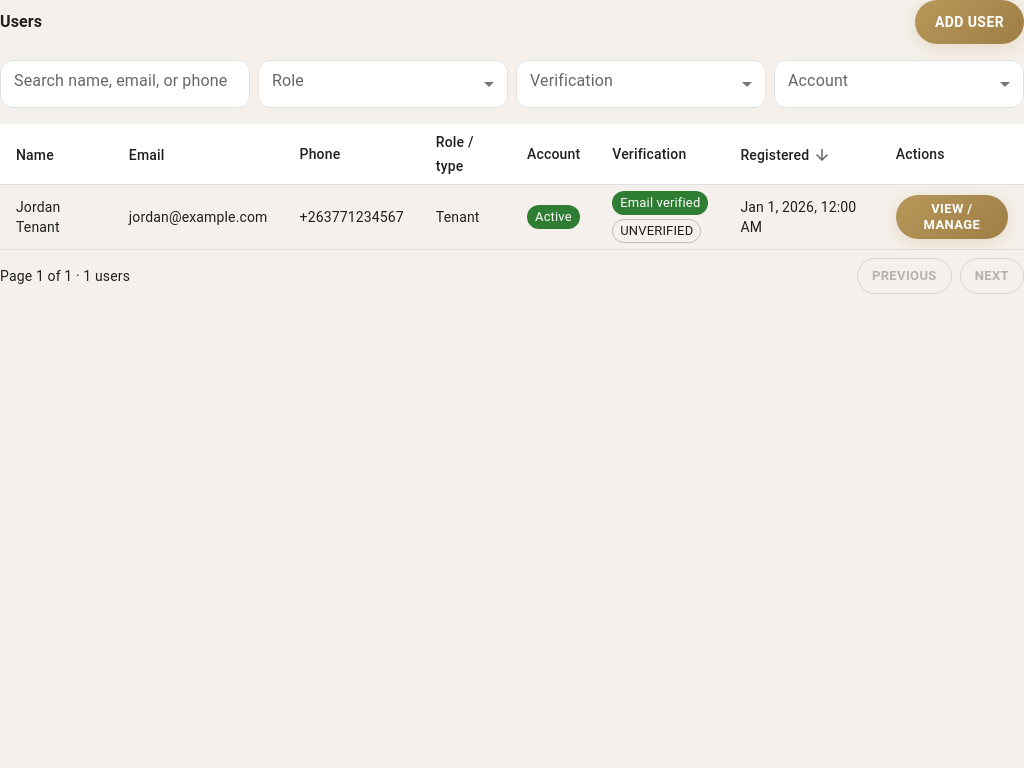
Test: AdminUsers › creates an admin user and opens the new user
Click the button "Add User": click(970, 22) 915,0 -> 1023,44
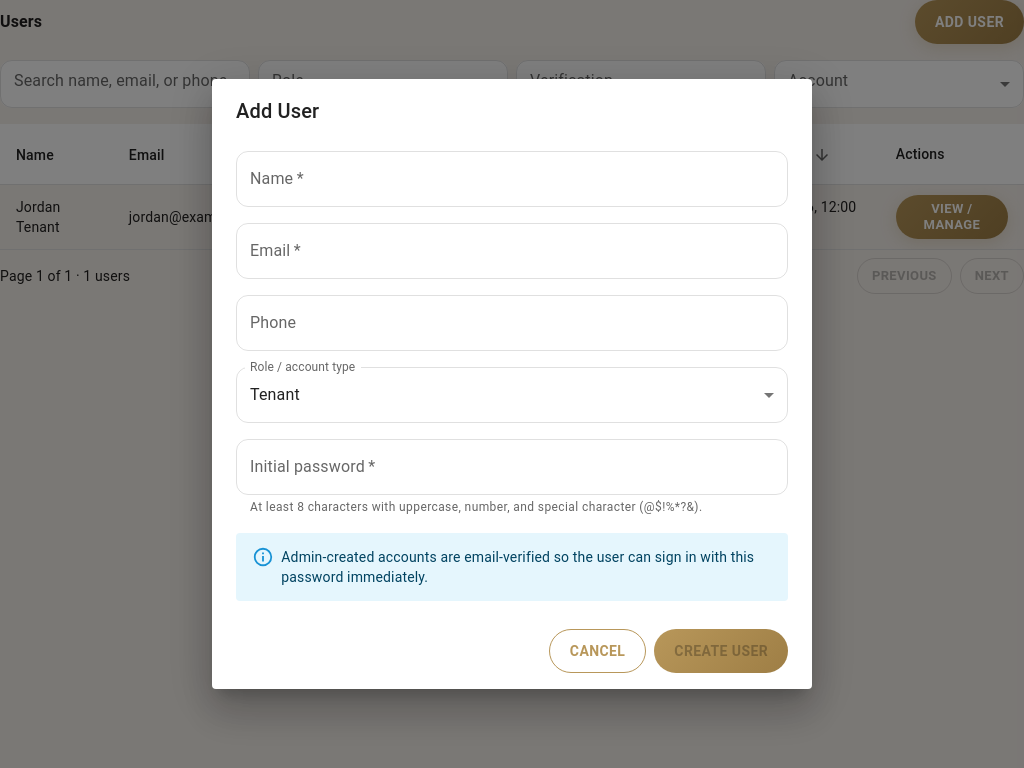
In the field labelled "Name *": (512, 178) 236,150 -> 788,206, type "New Tenant"
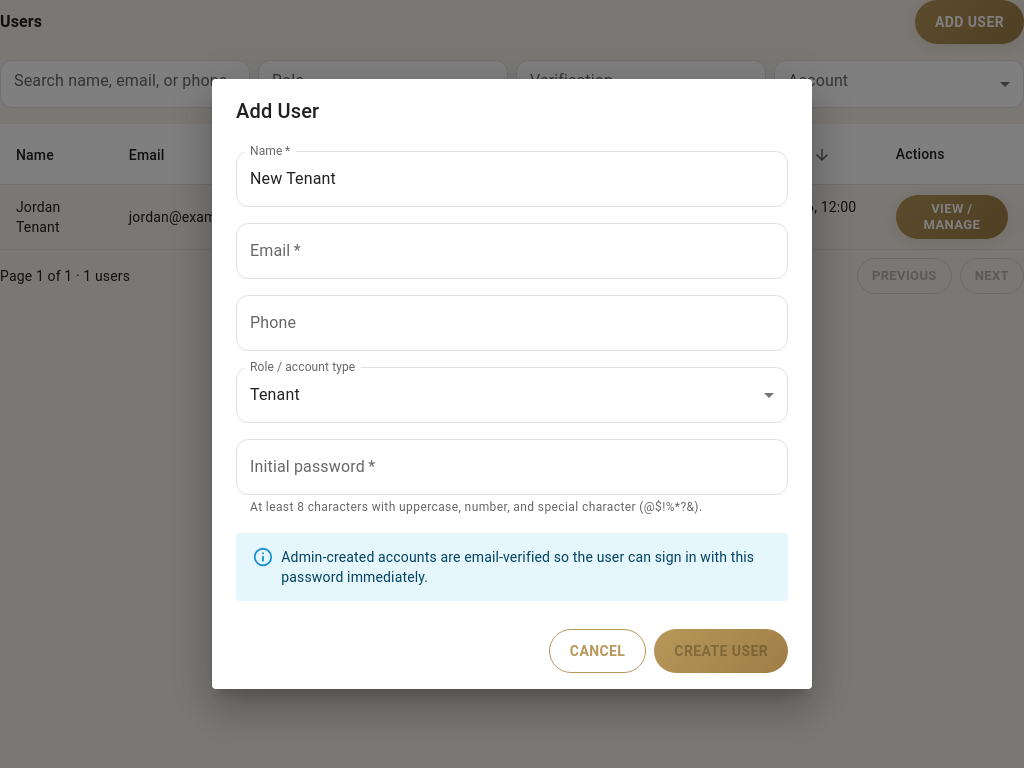
In the field labelled "Email *": (512, 250) 236,222 -> 788,278, type "new@example.com"
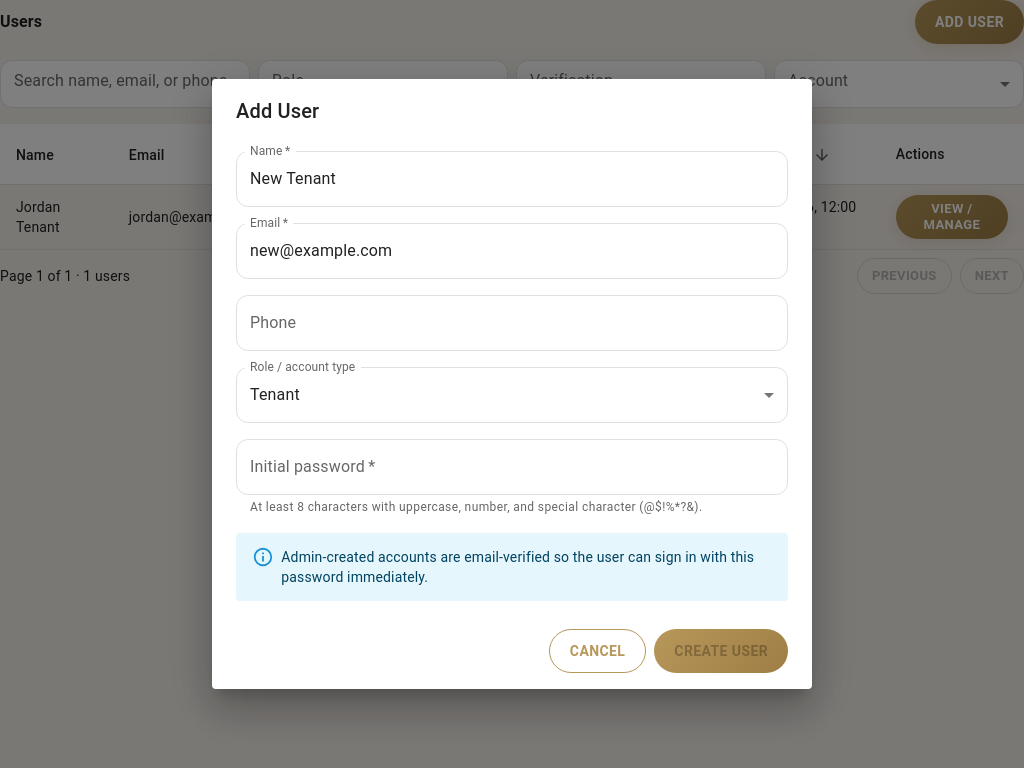
In the password field labelled "Initial password *": (512, 466) 236,438 -> 788,494, type "StrongPass1!"
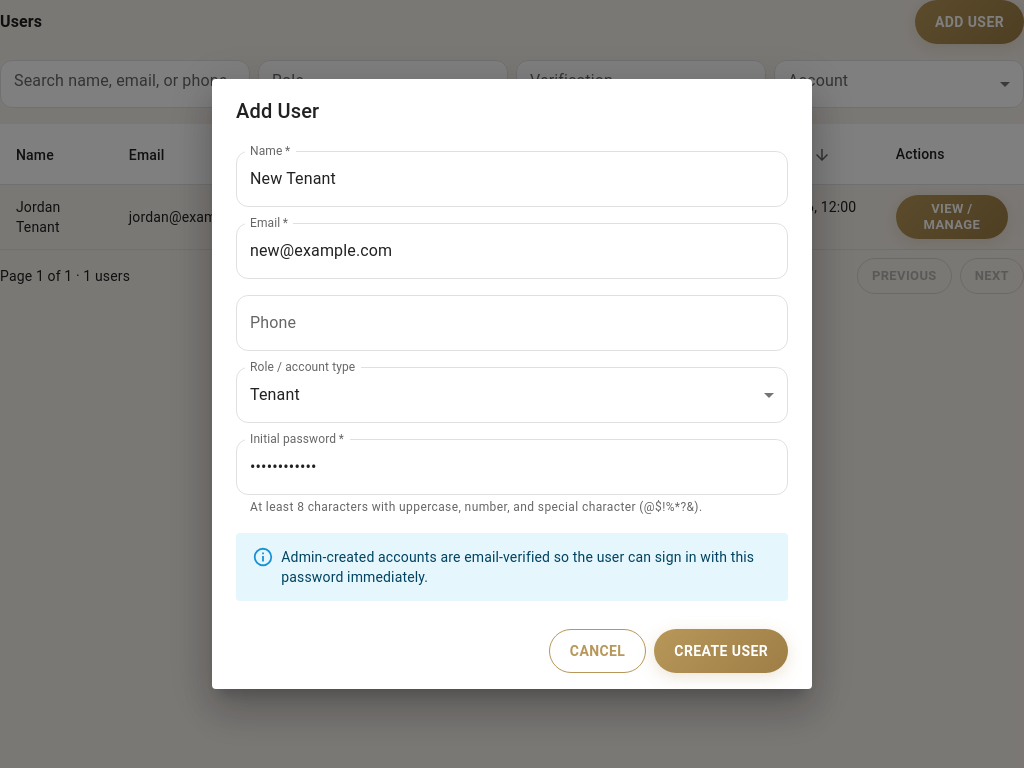
Click the button "Create user": click(721, 652) 654,630 -> 788,674
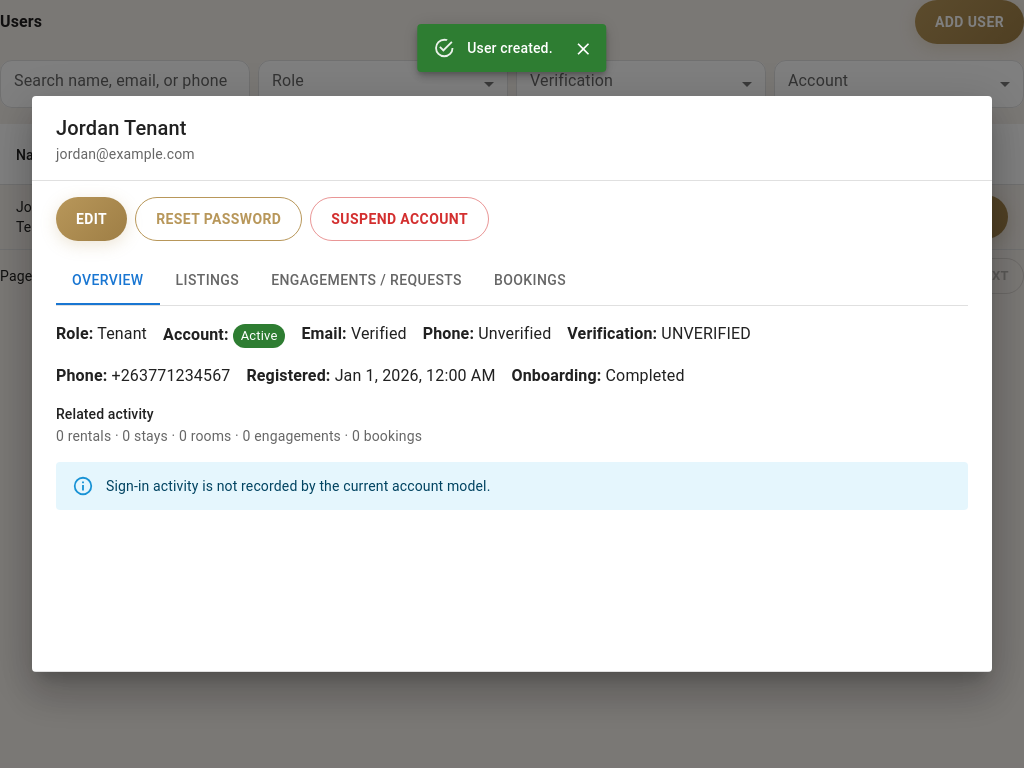
Now the text "User created." is shown, box 467,40 -> 553,56
